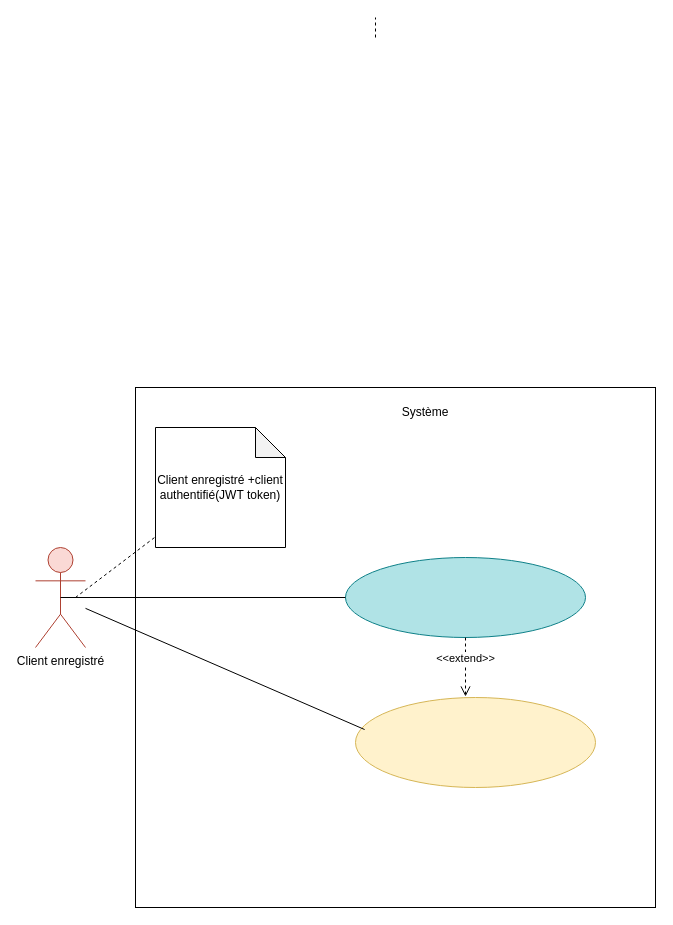
Some shapes in this 673 by 925 pixel diagram are drawn without their labels. The box of each missing label's shape, as (x1, y1, x2, y2) in pixels:
Consulter la liste des phones: (344, 556, 586, 638)
Consulter le détail d'un phone: (354, 696, 596, 788)
